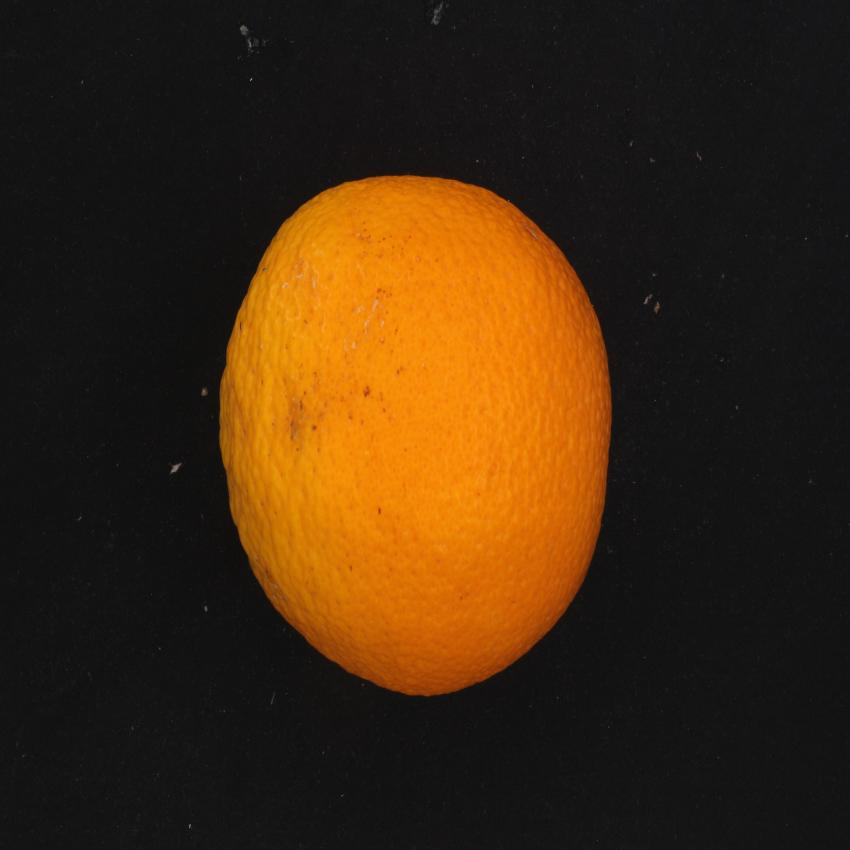Mal estado: (204, 155, 634, 714)
